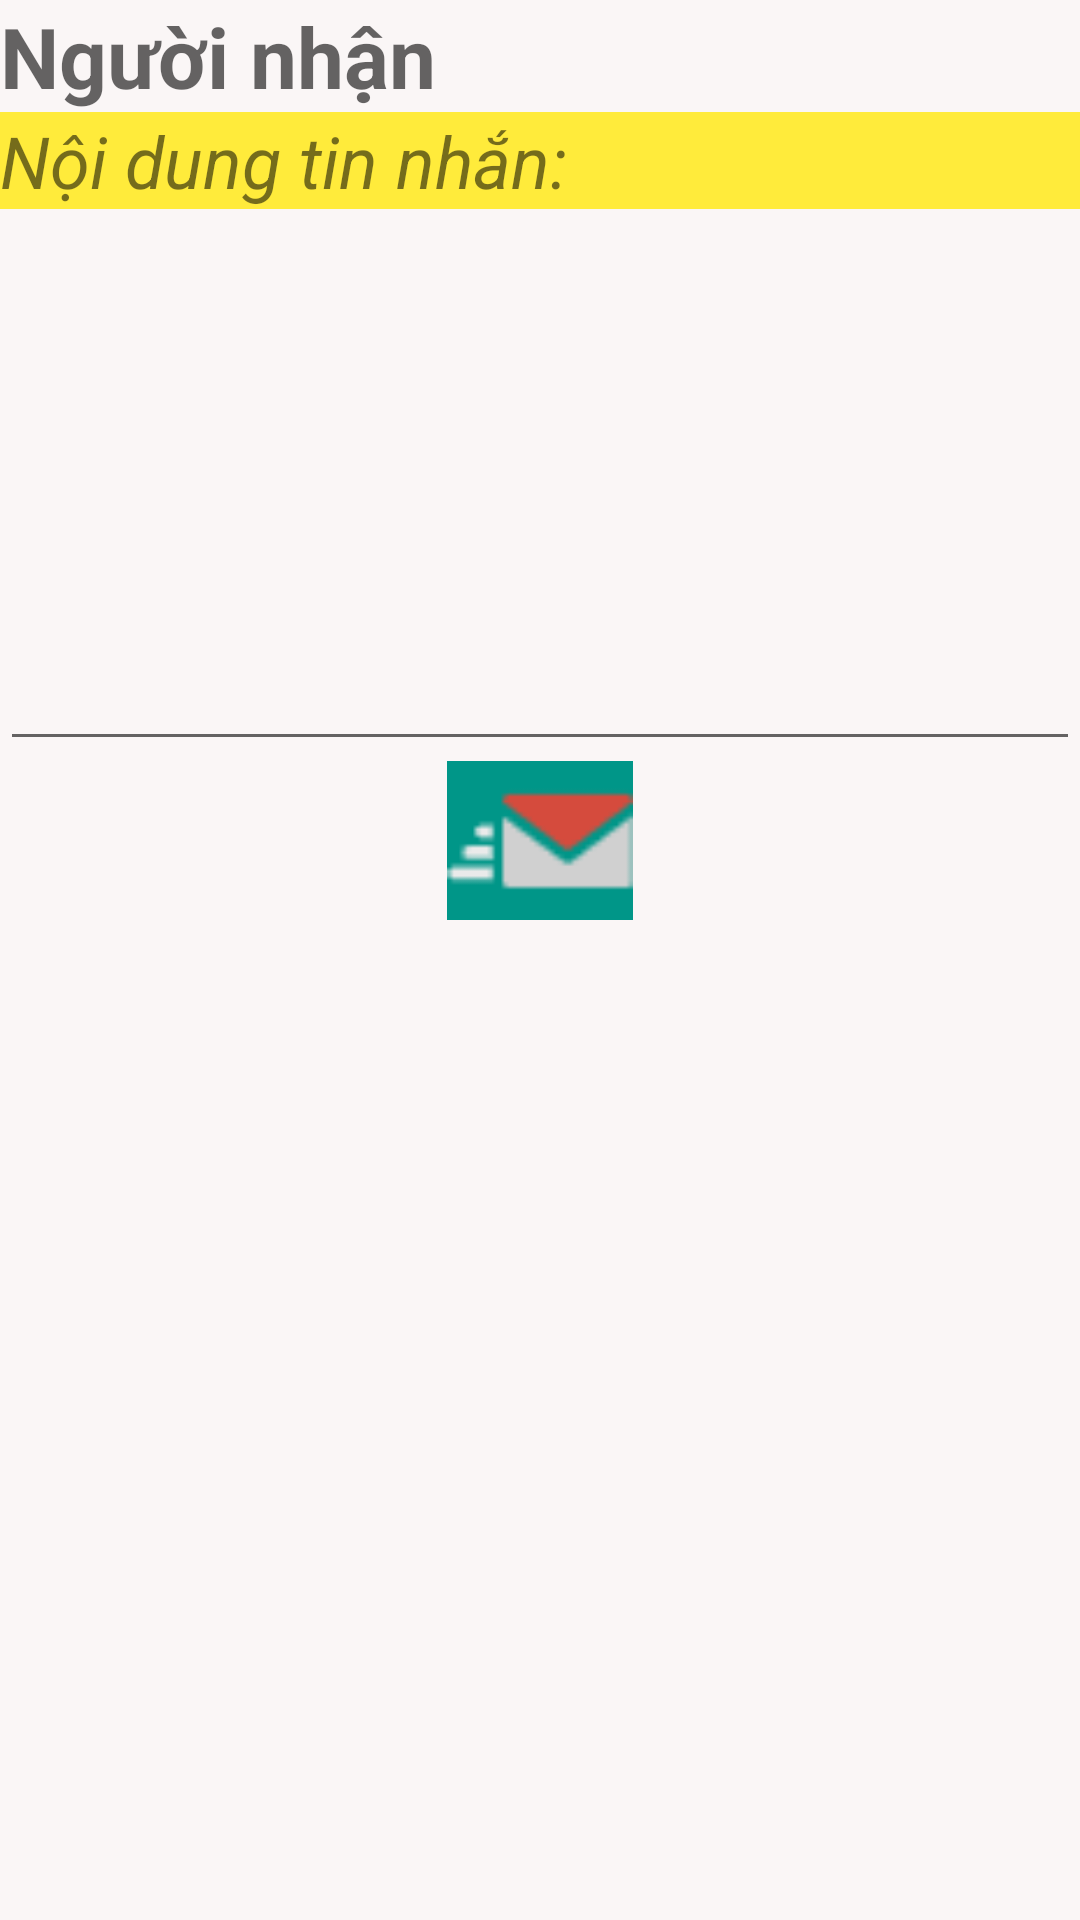

Icons on this 1080x1920 Android screen, each with the point to tap as point (x, y):
sent: point (540, 840)
